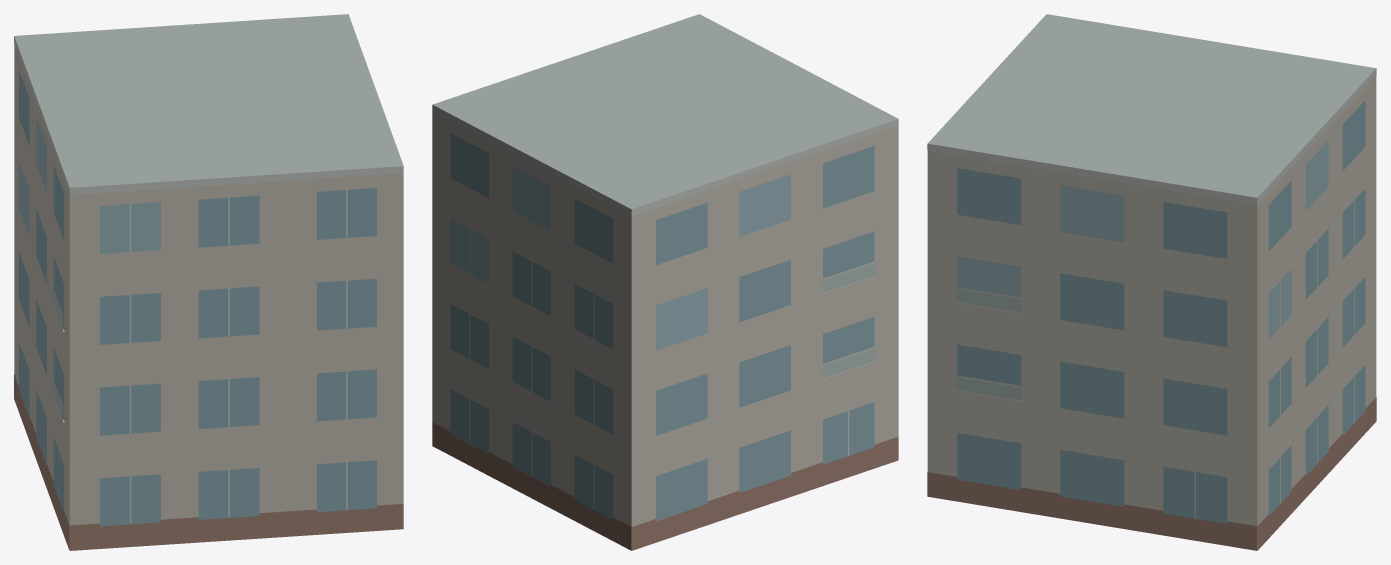
The model's file is residential-fd07b825-9990-4ebc-a5e7-d20688bffd45.glb.
The picture shows the model from 3 angles, left to right: view 1: azimuth 30°, elevation 25°; view 2: azimuth 150°, elevation 25°; view 3: azimuth 270°, elevation 25°; orthographic projection. The views are drawn at different scales.
Parts seen in each view (by area): view 1: residential-fd07b825-9990-4ebc-a5e7-d20688bffd45.tmp; view 2: residential-fd07b825-9990-4ebc-a5e7-d20688bffd45.tmp; view 3: residential-fd07b825-9990-4ebc-a5e7-d20688bffd45.tmp.
Part boxes in pixels (bbox=[...]): residential-fd07b825-9990-4ebc-a5e7-d20688bffd45.tmp: bbox=[14, 14, 403, 550]; residential-fd07b825-9990-4ebc-a5e7-d20688bffd45.tmp: bbox=[432, 14, 898, 550]; residential-fd07b825-9990-4ebc-a5e7-d20688bffd45.tmp: bbox=[927, 14, 1376, 550].
Bounding box in the file's own units: 13.63 × 12.2 × 14.07.
